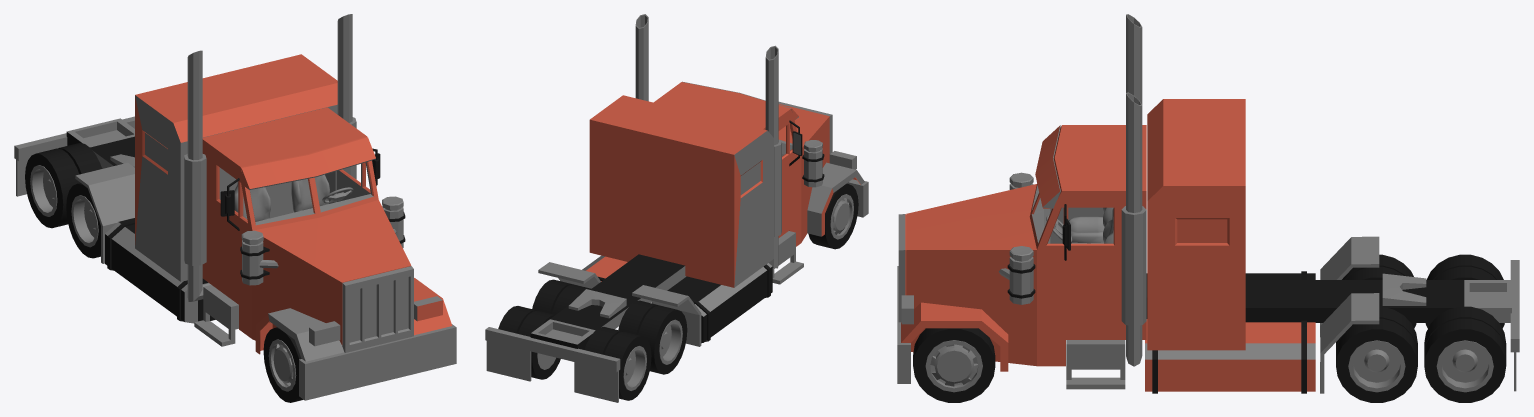
File: TruckModel.fbx
3 views of the same model, side by side, from view 1: azimuth 30°, elevation 25°; view 2: azimuth 150°, elevation 25°; view 3: azimuth 270°, elevation 25° (orthographic). The views are drawn at different scales.
Parts seen in each view (by area): view 1: Chasis, Rear_wheels2, Door_R, FrontWheels, Rear_wheels, Chairs, Door_L; view 2: Chasis, Rear_wheels2, Rear_wheels, FrontWheels, Door_R; view 3: Chasis, Rear_wheels2, Rear_wheels, Door_L, FrontWheels, Chairs, Door_R.
Part boxes in pixels (<box>): Chasis: <box>14,14,456,400</box>; Rear_wheels2: <box>25,143,101,228</box>; Door_R: <box>214,159,250,279</box>; FrontWheels: <box>263,327,303,402</box>; Rear_wheels: <box>66,183,100,258</box>; Chairs: <box>234,174,329,221</box>; Door_L: <box>336,148,380,201</box>; Chasis: <box>485,14,868,402</box>; Rear_wheels2: <box>498,306,651,400</box>; Rear_wheels: <box>532,279,687,374</box>; FrontWheels: <box>808,183,858,249</box>; Door_R: <box>778,118,802,211</box>; Chasis: <box>897,14,1519,393</box>; Rear_wheels2: <box>1424,254,1506,402</box>; Rear_wheels: <box>1336,254,1417,402</box>; Door_L: <box>1041,203,1119,310</box>; FrontWheels: <box>913,328,995,402</box>; Chairs: <box>1069,207,1113,243</box>; Door_R: <box>1050,207,1104,243</box>.
Size of the model in its own units: 230 by 376 by 680.
